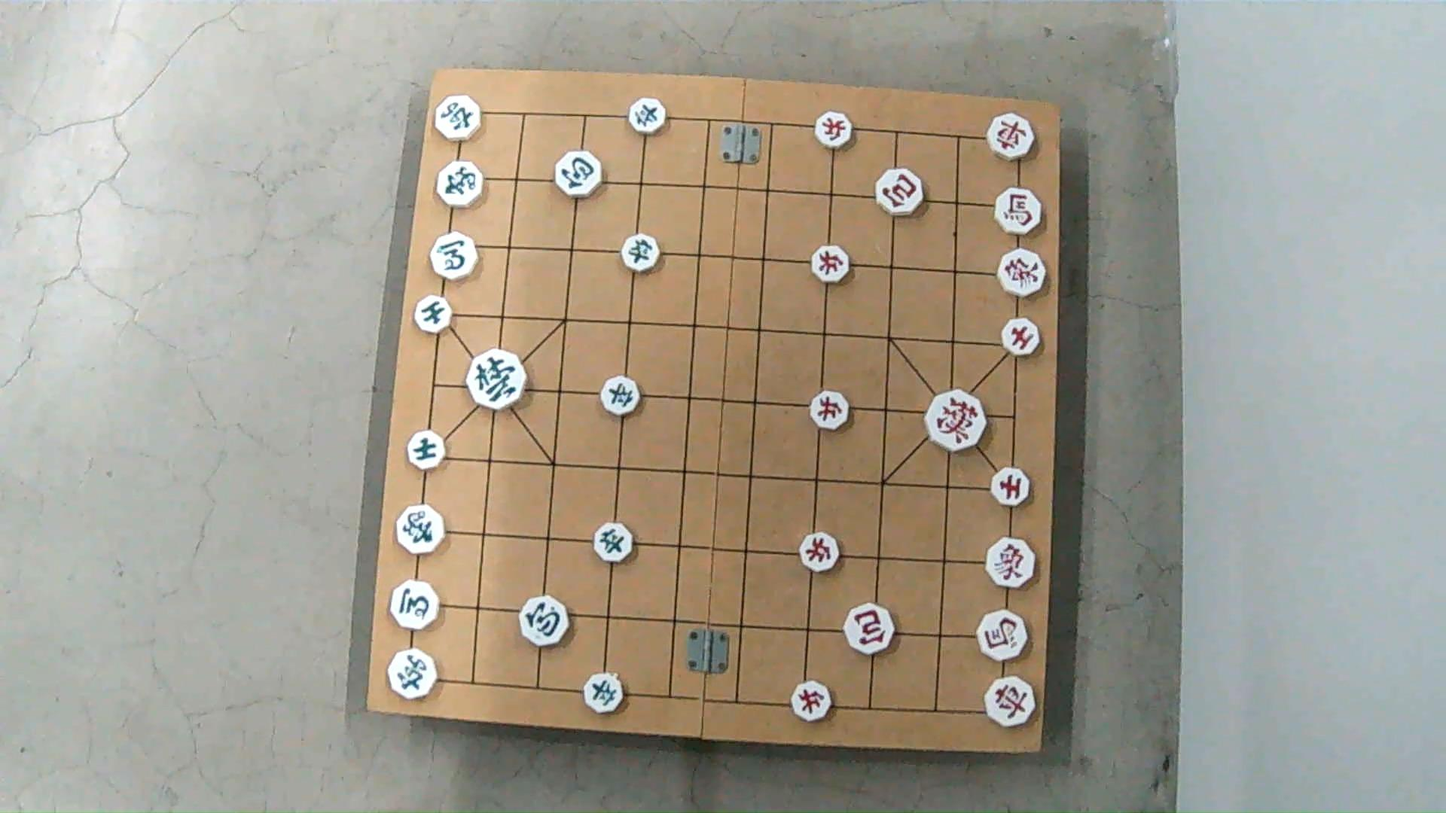cha_green: (386, 651, 438, 699), (433, 99, 484, 142)
cha_red: (985, 680, 1039, 729), (990, 116, 1041, 159)
jol_green: (580, 674, 624, 712), (603, 380, 647, 416), (622, 239, 667, 273), (594, 526, 636, 562), (628, 99, 670, 132)
jol_red: (798, 534, 842, 570), (791, 685, 833, 722), (807, 394, 850, 429), (813, 114, 856, 149), (810, 249, 852, 284)
ma_green: (427, 233, 481, 280), (389, 581, 442, 627)
ma_red: (978, 613, 1030, 659), (993, 189, 1044, 233)
po_green: (518, 592, 570, 645), (554, 154, 604, 197)
po_red: (847, 607, 900, 654), (876, 171, 926, 215)
sa_green: (404, 430, 451, 467), (412, 298, 452, 333)
sa_red: (997, 314, 1045, 358), (990, 467, 1032, 507)
sang_green: (395, 504, 445, 554), (432, 163, 485, 206)
sang_red: (982, 538, 1037, 585), (997, 248, 1046, 298)
wang_green: (465, 352, 525, 406)
wang_red: (926, 394, 991, 448)
